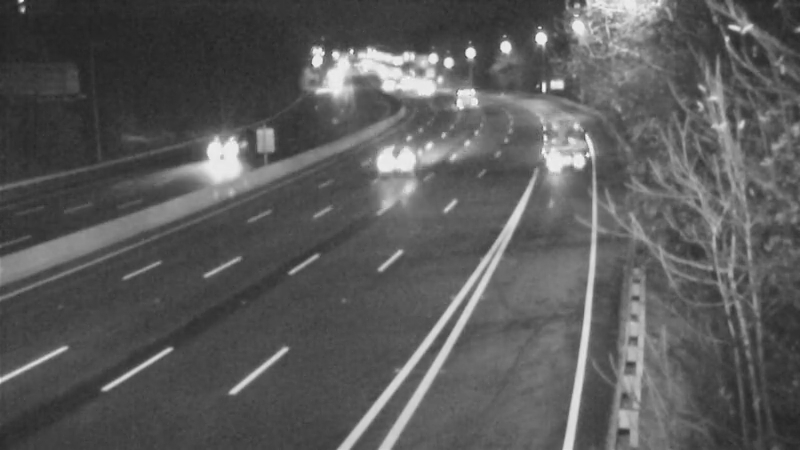vehicle: (352, 126, 432, 206), (176, 111, 256, 191), (443, 69, 493, 119), (543, 123, 593, 173)
